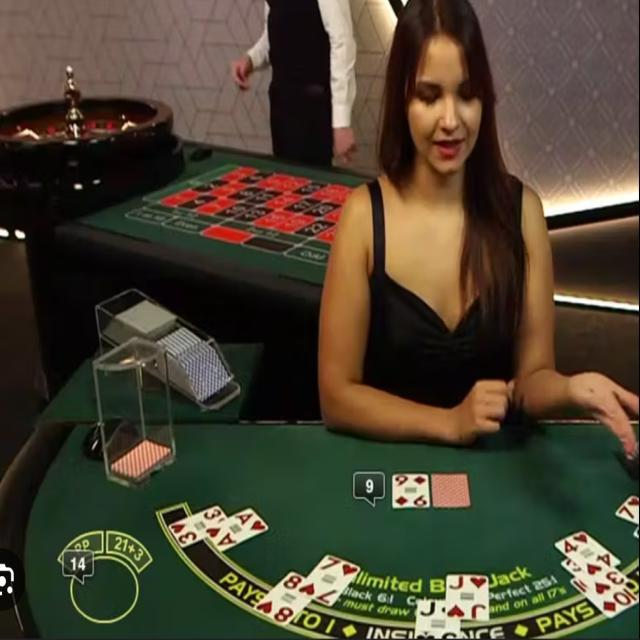Card-10: (572, 581, 639, 617)
Card-3: (561, 559, 628, 598), (168, 503, 226, 548)
Card-4: (554, 531, 620, 577)
Card-7: (297, 554, 360, 608), (615, 493, 639, 524)
Card-8: (255, 572, 311, 626)
Card-9: (391, 472, 428, 507)
Card-A: (205, 508, 268, 552)
Card-J: (447, 576, 488, 620), (414, 600, 461, 638)
